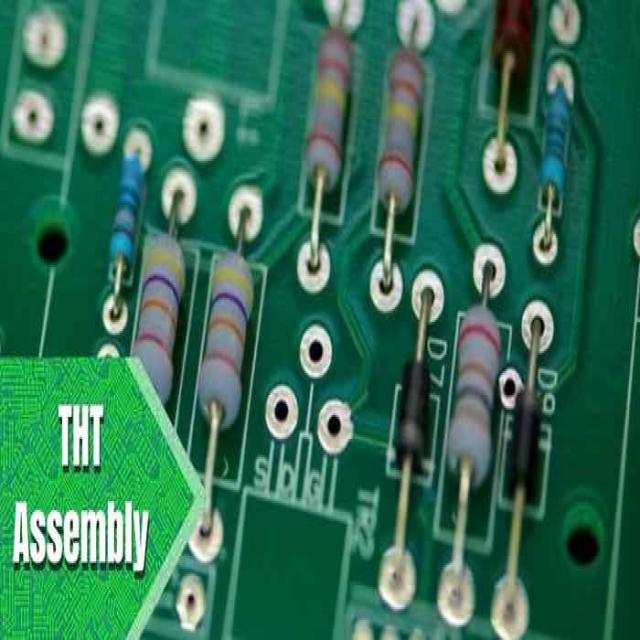diode: (388, 336, 432, 476), (511, 375, 546, 517)
resistor: (128, 241, 182, 436), (200, 246, 252, 440), (376, 48, 422, 240), (306, 27, 351, 222), (96, 150, 141, 294), (537, 81, 573, 224)
